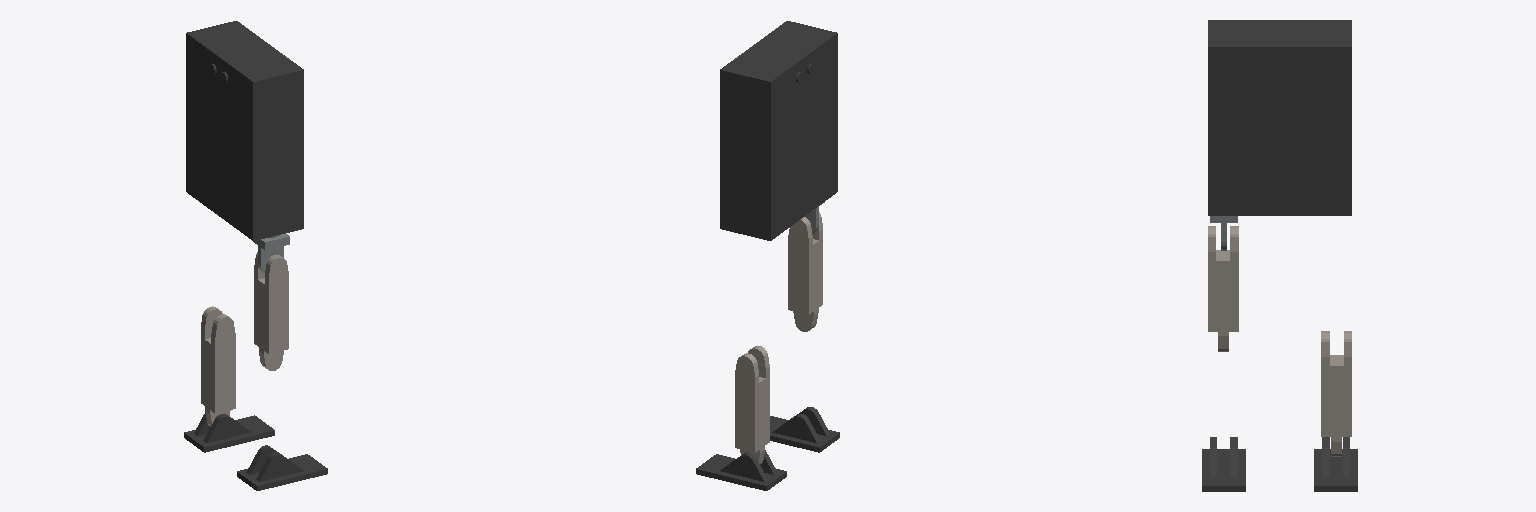
robot.urdf — body_description:
<robot
  name="body_description">
  
    <link name="world"/>

  <joint name="fixed" type="fixed">
    <parent link="world"/>
    <child link="Body"/>
  </joint>
  
  <link
    name="Body">
    <inertial>
      <origin
        xyz="-0.042987 2.2314E-17 0.10015"
        rpy="0 0 0" />
      <mass
        value="55.244" />
      <inertia
        ixx="2.6337"
        ixy="-1.0963E-18"
        ixz="-0.00047938"
        iyy="1.8437"
        iyz="-2.401E-16"
        izz="1.1584" />
    </inertial>
    <visual>
      <origin
        xyz="0 0 0"
        rpy="0 0 0" />
      <geometry>
        <mesh
          filename="package://body_description/meshes/Body.STL" />
      </geometry>
      <material
        name="">
        <color
          rgba="0.29412 0.29412 0.29412 1" />
      </material>
    </visual>
    <collision>
      <origin
        xyz="0 0 0"
        rpy="0 0 0" />
      <geometry>
        <mesh
          filename="package://body_description/meshes/Body.STL" />
      </geometry>
    </collision>
  </link>
  <link
    name="HipR">
    <inertial>
      <origin
        xyz="-0.0010549 -0.050129 0"
        rpy="0 0 0" />
      <mass
        value="3.8278" />
      <inertia
        ixx="0.0078315"
        ixy="1.5413E-05"
        ixz="8.4233E-20"
        iyy="0.004333"
        iyz="-1.0641E-19"
        izz="0.0091464" />
    </inertial>
    <visual>
      <origin
        xyz="0 0 0"
        rpy="0 0 0" />
      <geometry>
        <mesh
          filename="package://body_description/meshes/HipR.STL" />
      </geometry>
      <material
        name="">
        <color
          rgba="0.52941 0.54902 0.54902 1" />
      </material>
    </visual>
    <collision>
      <origin
        xyz="0 0 0"
        rpy="0 0 0" />
      <geometry>
        <mesh
          filename="package://body_description/meshes/HipR.STL" />
      </geometry>
    </collision>
  </link>
  <joint
    name="HipR"
    type="revolute">
    <origin
      xyz="-0.042951 -0.18 -0.20979"
      rpy="1.5708 0 0" />
    <parent
      link="Body" />
    <child
      link="HipR" />
    <axis
      xyz="0 -1 0" />
    <limit
      effort="0"
      velocity="0" />
  </joint>
  <link
    name="thighR">
    <inertial>
      <origin
        xyz="1.1796E-16 -0.2214 0.0025"
        rpy="0 0 0" />
      <mass
        value="19.016" />
      <inertia
        ixx="0.21742"
        ixy="1.1983E-17"
        ixz="-2.4324E-19"
        iyy="0.026036"
        iyz="1.6044E-19"
        izz="0.21082" />
    </inertial>
    <visual>
      <origin
        xyz="0 0 0"
        rpy="0 0 0" />
      <geometry>
        <mesh
          filename="package://body_description/meshes/thighR.STL" />
      </geometry>
      <material
        name="">
        <color
          rgba="0.64706 0.61961 0.58824 1" />
      </material>
    </visual>
    <collision>
      <origin
        xyz="0 0 0"
        rpy="0 0 0" />
      <geometry>
        <mesh
          filename="package://body_description/meshes/thighR.STL" />
      </geometry>
    </collision>
  </link>
  <joint
    name="KneeUpR"
    type="revolute">
    <origin
      xyz="-0.0011675 -0.068 0"
      rpy="0 0 0" />
    <parent
      link="HipR" />
    <child
      link="thighR" />
    <axis
      xyz="0 0 -1" />
    <limit
      effort="0"
      velocity="0" />
  </joint>
  <link
    name="ShankR">
    <inertial>
      <origin
        xyz="1.1796E-16 -0.2214 0.0025"
        rpy="0 0 0" />
      <mass
        value="19.016" />
      <inertia
        ixx="0.21742"
        ixy="1.0337E-17"
        ixz="-5.9544E-19"
        iyy="0.026036"
        iyz="-9.9194E-19"
        izz="0.21082" />
    </inertial>
    <visual>
      <origin
        xyz="0 0 0"
        rpy="0 0 0" />
      <geometry>
        <mesh
          filename="package://body_description/meshes/ShankR.STL" />
      </geometry>
      <material
        name="">
        <color
          rgba="0.64706 0.61961 0.58824 1" />
      </material>
    </visual>
    <collision>
      <origin
        xyz="0 0 0"
        rpy="0 0 0" />
      <geometry>
        <mesh
          filename="package://body_description/meshes/ShankR.STL" />
      </geometry>
    </collision>
  </link>
  <joint
    name="kneeR"
    type="revolute">
    <origin
      xyz="0 -0.37184 0"
      rpy="0 0 0" />
    <parent
      link="thighR" />
    <child
      link="ShankR" />
    <axis
      xyz="0 0 -1" />
    <limit
      effort="0"
      velocity="0" />
  </joint>
  <link
    name="FootR">
    <inertial>
      <origin
        xyz="0.032361 -0.089245 0.00015647"
        rpy="0 0 0" />
      <mass
        value="1.2008" />
      <inertia
        ixx="0.0024541"
        ixy="-0.00043715"
        ixz="-1.6235E-18"
        iyy="0.0077791"
        iyz="1.1095E-19"
        izz="0.0067244" />
    </inertial>
    <visual>
      <origin
        xyz="0 0 0"
        rpy="0 0 0" />
      <geometry>
        <mesh
          filename="package://body_description/meshes/FootR.STL" />
      </geometry>
      <material
        name="">
        <color
          rgba="0.29412 0.29412 0.29412 1" />
      </material>
    </visual>
    <collision>
      <origin
        xyz="0 0 0"
        rpy="0 0 0" />
      <geometry>
        <mesh
          filename="package://body_description/meshes/FootR.STL" />
      </geometry>
    </collision>
  </link>
  <joint
    name="ankleR"
    type="revolute">
    <origin
      xyz="0 -0.37184 0"
      rpy="0 0 0" />
    <parent
      link="ShankR" />
    <child
      link="FootR" />
    <axis
      xyz="0 0 -1" />
    <limit
      effort="0"
      velocity="0" />
  </joint>
  <link
    name="HipL">
    <inertial>
      <origin
        xyz="-0.00105485496641898 -0.0501285703611945 0"
        rpy="0 0 0" />
      <mass
        value="3.82779005893202" />
      <inertia
        ixx="0.00783153648623665"
        ixy="1.54131512206649E-05"
        ixz="5.74060106289353E-20"
        iyy="0.00433298689106094"
        iyz="5.82735608219907E-19"
        izz="0.00914636479865238" />
    </inertial>
    <visual>
      <origin
        xyz="0 0 0"
        rpy="0 0 0" />
      <geometry>
        <mesh
          filename="package://body_description/meshes/HipL.STL" />
      </geometry>
      <material
        name="">
        <color
          rgba="0.529411764705882 0.549019607843137 0.549019607843137 1" />
      </material>
    </visual>
    <collision>
      <origin
        xyz="0 0 0"
        rpy="0 0 0" />
      <geometry>
        <mesh
          filename="package://body_description/meshes/HipL.STL" />
      </geometry>
    </collision>
  </link>
  <joint
    name="HipL"
    type="revolute">
    <origin
      xyz="-0.042951 0.18 -0.20979"
      rpy="1.5708 0 0" />
    <parent
      link="Body" />
    <child
      link="HipL" />
    <axis
      xyz="0 -1 0" />
    <limit
      effort="0"
      velocity="0" />
  </joint>
  <link
    name="thighL">
    <inertial>
      <origin
        xyz="3.01841884819964E-15 -0.221395157994845 -0.00250000000000136"
        rpy="0 0 0" />
      <mass
        value="19.0156216032149" />
      <inertia
        ixx="0.217420760192642"
        ixy="1.10242929753221E-17"
        ixz="-3.4688625575058E-19"
        iyy="0.0260364120306275"
        iyz="2.86382149782102E-19"
        izz="0.210824286411334" />
    </inertial>
    <visual>
      <origin
        xyz="0 0 0"
        rpy="0 0 0" />
      <geometry>
        <mesh
          filename="package://body_description/meshes/thighL.STL" />
      </geometry>
      <material
        name="">
        <color
          rgba="0.647058823529412 0.619607843137255 0.588235294117647 1" />
      </material>
    </visual>
    <collision>
      <origin
        xyz="0 0 0"
        rpy="0 0 0" />
      <geometry>
        <mesh
          filename="package://body_description/meshes/thighL.STL" />
      </geometry>
    </collision>
  </link>
  <joint
    name="KneeUpL"
    type="revolute">
    <origin
      xyz="-0.0011675 -0.068 0"
      rpy="0 0 0" />
    <parent
      link="HipL" />
    <child
      link="thighL" />
    <axis
      xyz="0 0 -1" />
    <limit
      effort="0"
      velocity="0" />
  </joint>
  <link
    name="ShankL">
    <inertial>
      <origin
        xyz="3.05311331771918E-16 -0.221395157994845 -0.00250000000000133"
        rpy="0 0 0" />
      <mass
        value="19.0156216032149" />
      <inertia
        ixx="0.217420760192642"
        ixy="9.39166378737544E-18"
        ixz="-7.06105859011909E-19"
        iyy="0.0260364120306275"
        iyz="-9.77948611685313E-19"
        izz="0.210824286411334" />
    </inertial>
    <visual>
      <origin
        xyz="0 0 0"
        rpy="0 0 0" />
      <geometry>
        <mesh
          filename="package://body_description/meshes/ShankL.STL" />
      </geometry>
      <material
        name="">
        <color
          rgba="0.647058823529412 0.619607843137255 0.588235294117647 1" />
      </material>
    </visual>
    <collision>
      <origin
        xyz="0 0 0"
        rpy="0 0 0" />
      <geometry>
        <mesh
          filename="package://body_description/meshes/ShankL.STL" />
      </geometry>
    </collision>
  </link>
  <joint
    name="KneeL"
    type="revolute">
    <origin
      xyz="0 -0.37184 0"
      rpy="0 0 0" />
    <parent
      link="thighL" />
    <child
      link="ShankL" />
    <axis
      xyz="0 0 -1" />
    <limit
      effort="0"
      velocity="0" />
  </joint>
  <link
    name="FootL">
    <inertial>
      <origin
        xyz="0.0323611465054027 -0.0892454683551247 -0.000156474999457618"
        rpy="0 0 0" />
      <mass
        value="1.20075196173202" />
      <inertia
        ixx="0.00245406375940147"
        ixy="-0.000437151587591721"
        ixz="-1.61338472831165E-18"
        iyy="0.00777905779344629"
        iyz="1.34502298658465E-19"
        izz="0.00672436092520249" />
    </inertial>
    <visual>
      <origin
        xyz="0 0 0"
        rpy="0 0 0" />
      <geometry>
        <mesh
          filename="package://body_description/meshes/FootL.STL" />
      </geometry>
      <material
        name="">
        <color
          rgba="0.294117647058824 0.294117647058824 0.294117647058824 1" />
      </material>
    </visual>
    <collision>
      <origin
        xyz="0 0 0"
        rpy="0 0 0" />
      <geometry>
        <mesh
          filename="package://body_description/meshes/FootL.STL" />
      </geometry>
    </collision>
  </link>
  <joint
    name="ankleL"
    type="revolute">
    <origin
      xyz="0 -0.37184 0"
      rpy="0 0 0" />
    <parent
      link="ShankL" />
    <child
      link="FootL" />
    <axis
      xyz="0 0 -1" />
    <limit
      effort="0"
      velocity="0" />
  </joint>
</robot>

--- Facts derived from the render (not from the file) ---
Views: 3 orthographic renders of the robot side by side, from view 1: azimuth 30°, elevation 25°; view 2: azimuth 150°, elevation 25°; view 3: azimuth 270°, elevation 25°.
Model body_description with 10 links and 9 joints (8 revolute, 1 fixed), rooted at world, posed all joints at 0.
Links seen in each view (by area): view 1: Body, ShankL, thighR, FootR, FootL, HipR; view 2: Body, ShankL, thighR, FootL, FootR; view 3: Body, ShankL, thighR, FootR, FootL.
Boxes of the visible links, left/top/right/bottom form: Body: left=186, top=21, right=303, bottom=240; ShankL: left=201, top=306, right=235, bottom=425; thighR: left=254, top=252, right=288, bottom=370; FootR: left=237, top=445, right=327, bottom=490; FootL: left=184, top=412, right=274, bottom=452; HipR: left=253, top=234, right=289, bottom=272; Body: left=720, top=21, right=837, bottom=240; ShankL: left=735, top=346, right=769, bottom=464; thighR: left=788, top=212, right=822, bottom=331; FootL: left=696, top=450, right=786, bottom=490; FootR: left=770, top=407, right=839, bottom=452; Body: left=1208, top=20, right=1351, bottom=215; ShankL: left=1321, top=331, right=1351, bottom=456; thighR: left=1208, top=226, right=1238, bottom=351; FootR: left=1202, top=437, right=1245, bottom=491; FootL: left=1314, top=437, right=1357, bottom=491.
Bounding box of the posed robot: 0.2912 × 0.5003 × 1.54 m (x, y, z).
6 mesh visuals loaded from 9 distinct referenced files (6 binary STL); not drawn: 3 (reference not matched to a file when rendering).